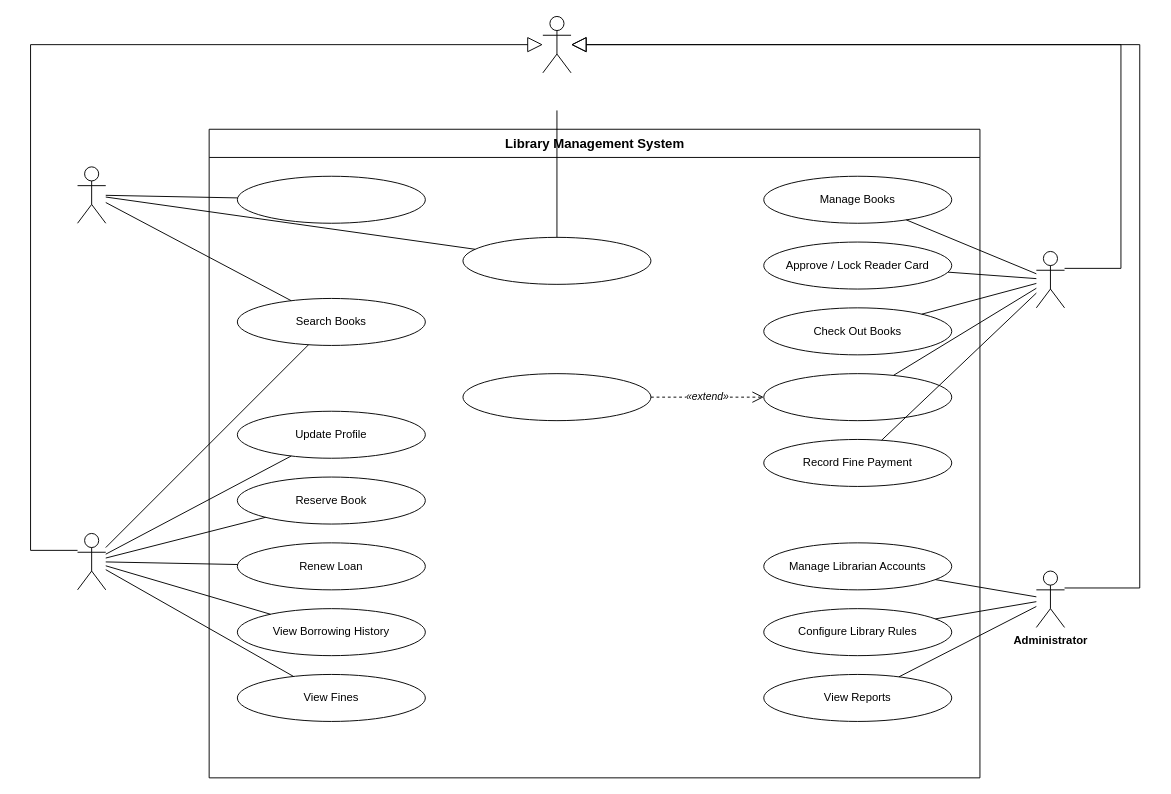
Some shapes in this 1171 by 794 pixel diagram are drawn without their labels. The centre of each missing label's shape, as x and y in pixels:
Check In Books: the point at 857,397
Guest: the point at 91,194
Librarian: the point at 1050,279
Log In: the point at 556,260
Reader: the point at 91,561
Record Violation: the point at 556,397
Register Account: the point at 330,199
User: the point at 556,44
